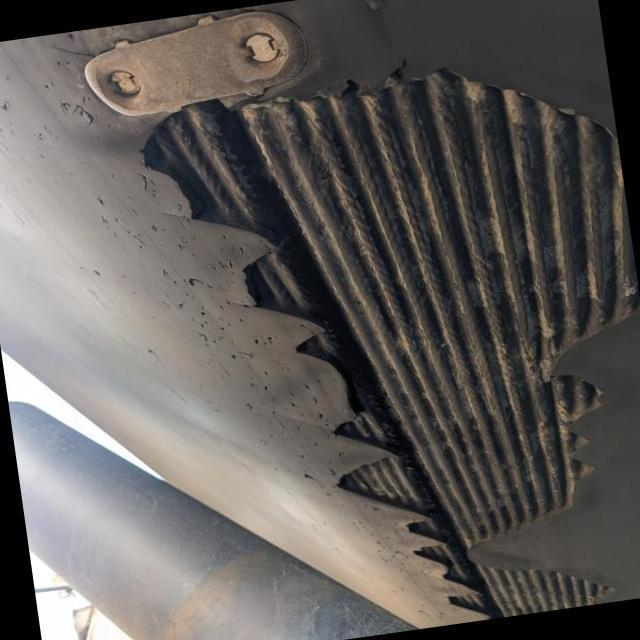Tear: (139, 54, 640, 620)
